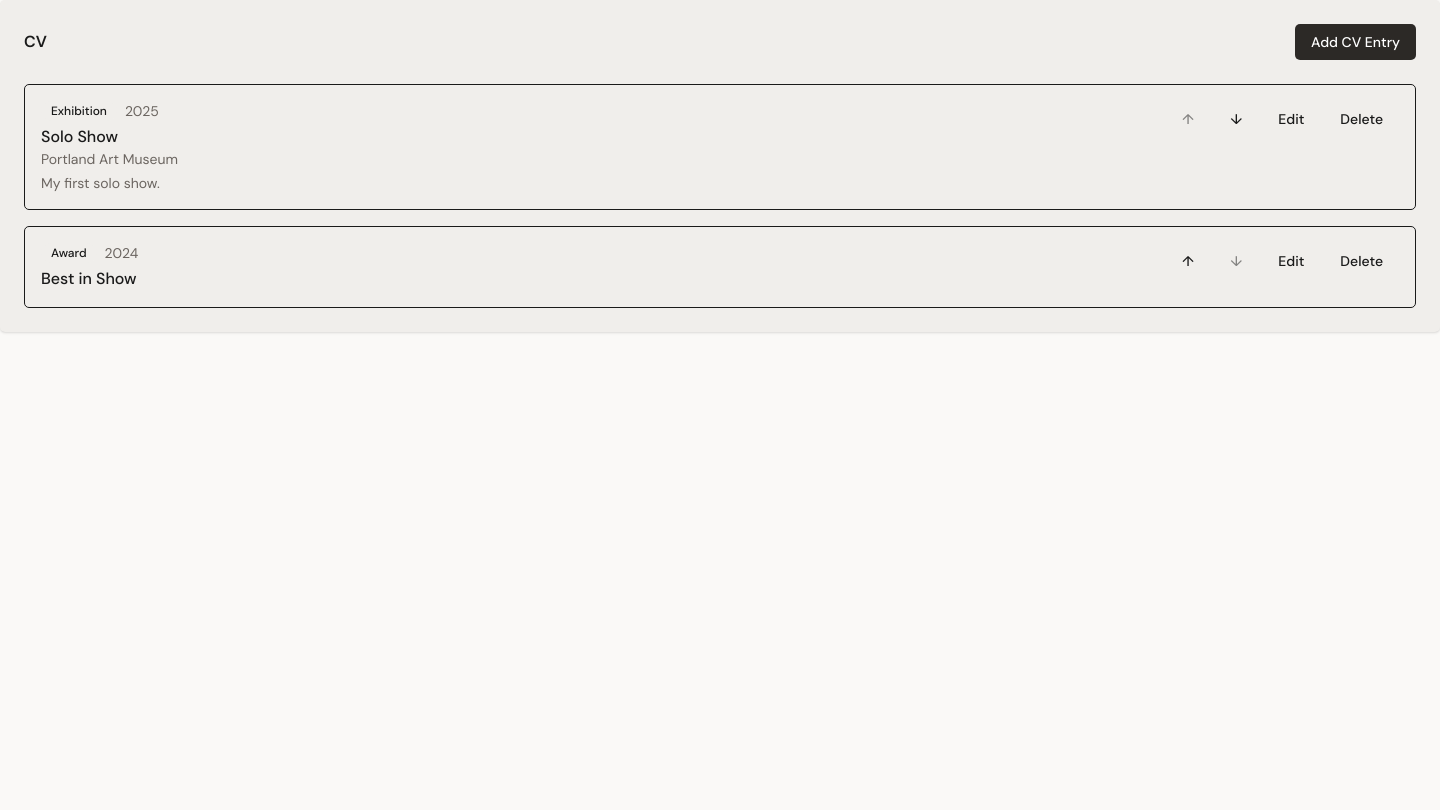
Test: CvEntryList › should open edit form when edit button is clicked
The image size is (1440, 810).
Expected: the text "Solo Show" is shown, [41,126,118,147]
Click the button with test id "cv-edit-button".
click(1291, 119)  # box [1262,101,1320,137]
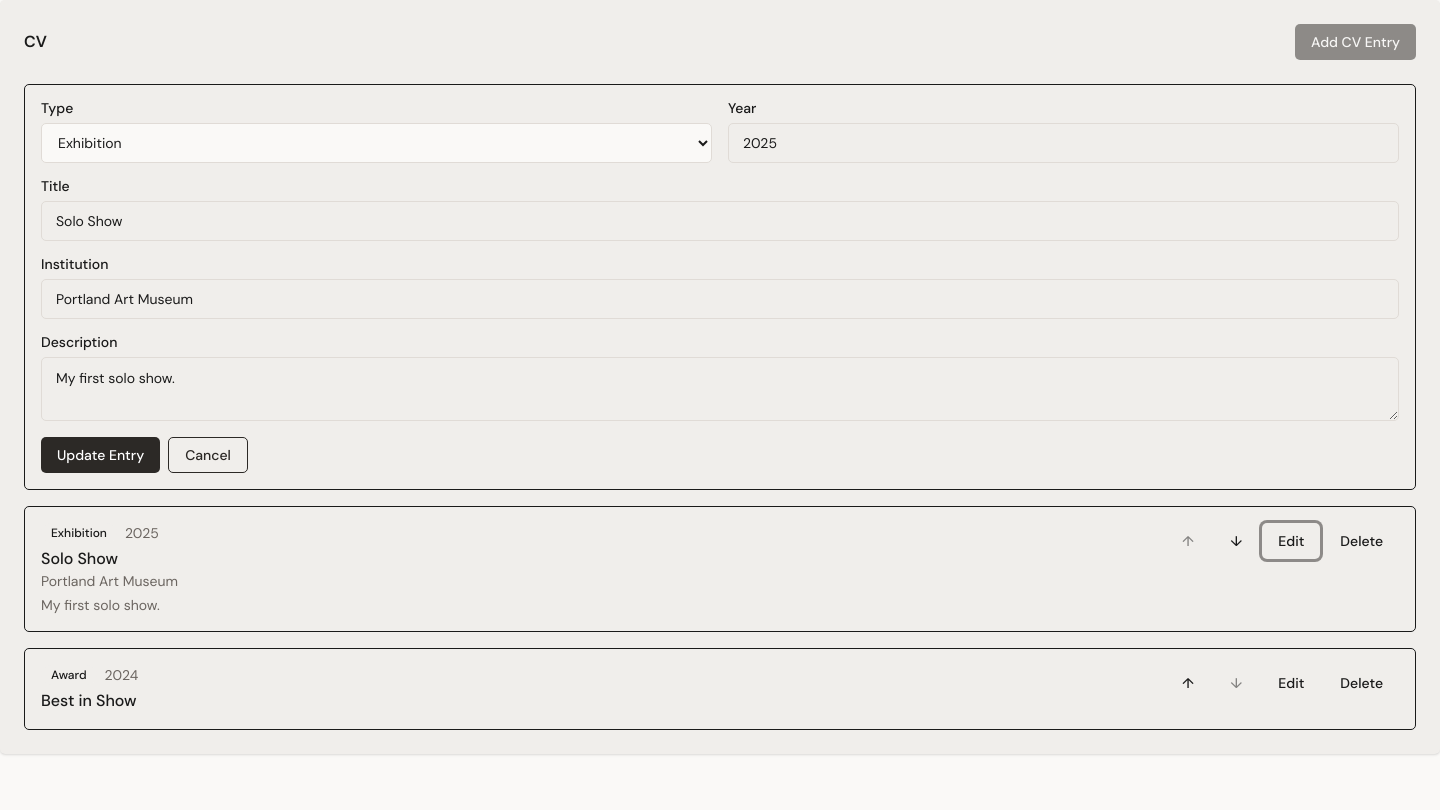
Result: the form with test id "cv-entry-form" is shown at [24,84,1416,490]
Result: the field with test id "cv-title-input" holds "Solo Show" at [41,201,1399,241]
Result: the number field with test id "cv-year-input" holds "2025" at [728,123,1399,163]
